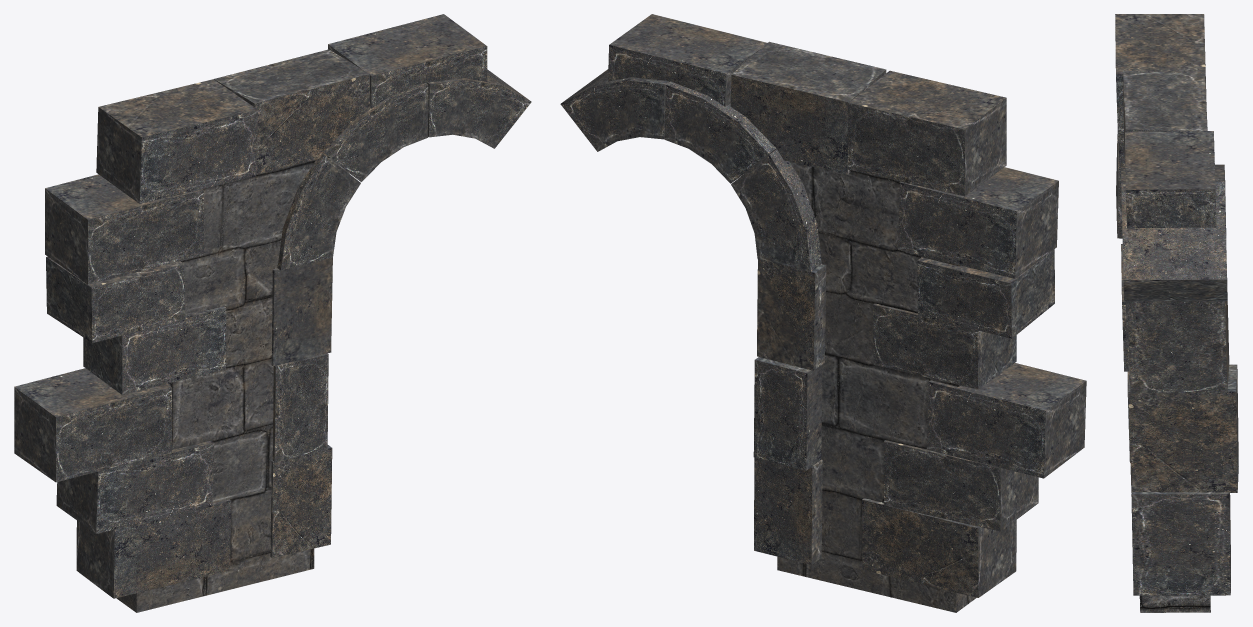
File: Wall_04.fbx
3 views of the same model, side by side, from view 1: azimuth 30°, elevation 25°; view 2: azimuth 150°, elevation 25°; view 3: azimuth 270°, elevation 25° (orthographic). The views are drawn at different scales.
Visible parts, largest first — view 1: StoneBricks, StoneWall; view 2: StoneBricks, StoneWall; view 3: StoneBricks, StoneWall.
Boxes of the visible parts, left/top/right/bottom form: StoneBricks: left=14, top=14, right=531, bottom=598; StoneWall: left=116, top=156, right=349, bottom=612; StoneBricks: left=560, top=14, right=1086, bottom=597; StoneWall: left=751, top=156, right=976, bottom=612; StoneBricks: left=1115, top=14, right=1238, bottom=595; StoneWall: left=1139, top=595, right=1210, bottom=612.
Size of what is drawn, in the model's own units: 159 by 155 by 34.25.
